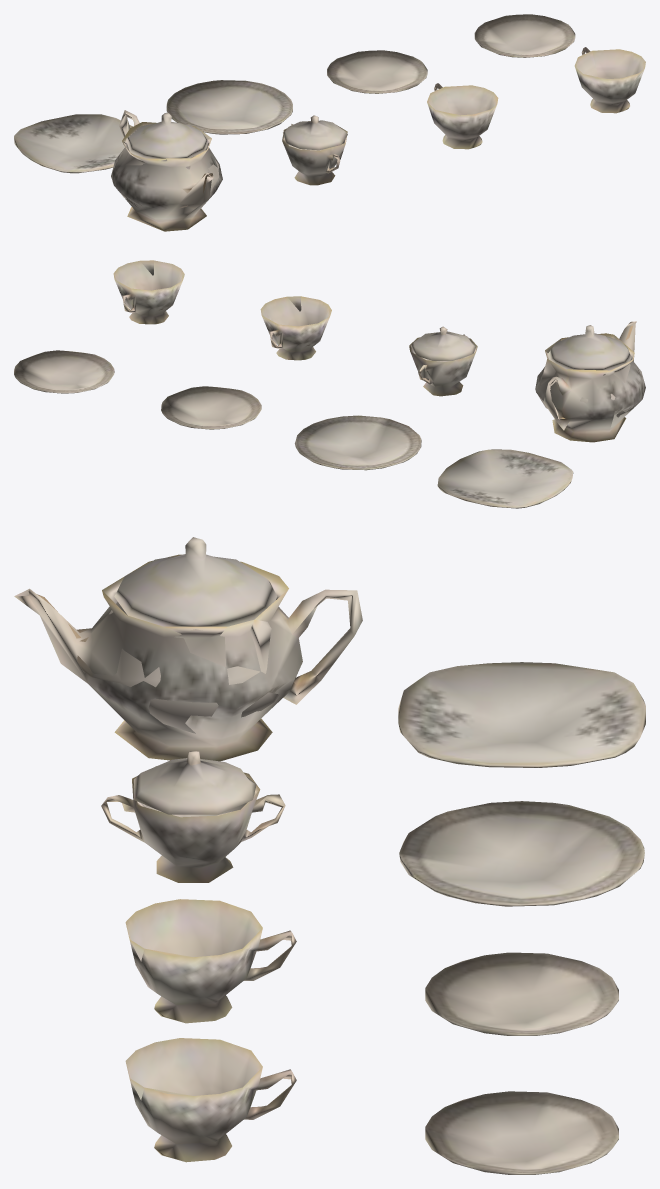
File: tea_set_01.glb
3 views of the same model, one above another, from view 1: azimuth 30°, elevation 25°; view 2: azimuth 150°, elevation 25°; view 3: azimuth 270°, elevation 25° (orthographic). The views are drawn at different scales.
Parts seen in each view (by area): view 1: tea_set_01_teapot_01, tea_set_01_plate_large_circular_03, tea_set_01_plate_large_square_01, tea_set_01_saucer_circular_03, tea_set_01_saucer_circular_04, tea_set_01_cup_small_01, tea_set_01_cup_small_02, tea_set_01_teapot_01_lid, tea_set_01_sugar_cup_01, tea_set_01_sugar_cup_01_lid; view 2: tea_set_01_teapot_01, tea_set_01_plate_large_square_01, tea_set_01_plate_large_circular_03, tea_set_01_saucer_circular_04, tea_set_01_saucer_circular_03, tea_set_01_cup_small_02, tea_set_01_cup_small_01, tea_set_01_teapot_01_lid, tea_set_01_sugar_cup_01, tea_set_01_sugar_cup_01_lid; view 3: tea_set_01_teapot_01, tea_set_01_plate_large_square_01, tea_set_01_plate_large_circular_03, tea_set_01_cup_small_02, tea_set_01_cup_small_01, tea_set_01_saucer_circular_03, tea_set_01_saucer_circular_04, tea_set_01_teapot_01_lid, tea_set_01_sugar_cup_01, tea_set_01_sugar_cup_01_lid.
Boxes of the visible parts, bbox=[...] form: tea_set_01_teapot_01: bbox=[111, 110, 222, 231]; tea_set_01_plate_large_circular_03: bbox=[166, 80, 292, 134]; tea_set_01_plate_large_square_01: bbox=[14, 114, 132, 173]; tea_set_01_saucer_circular_03: bbox=[474, 14, 575, 57]; tea_set_01_saucer_circular_04: bbox=[327, 50, 427, 93]; tea_set_01_cup_small_01: bbox=[427, 83, 498, 149]; tea_set_01_cup_small_02: bbox=[574, 47, 645, 113]; tea_set_01_teapot_01_lid: bbox=[126, 112, 208, 161]; tea_set_01_sugar_cup_01: bbox=[282, 124, 347, 185]; tea_set_01_sugar_cup_01_lid: bbox=[283, 115, 347, 150]; tea_set_01_teapot_01: bbox=[535, 321, 645, 442]; tea_set_01_plate_large_square_01: bbox=[437, 449, 573, 508]; tea_set_01_plate_large_circular_03: bbox=[294, 415, 421, 470]; tea_set_01_saucer_circular_04: bbox=[161, 386, 261, 429]; tea_set_01_saucer_circular_03: bbox=[14, 350, 114, 393]; tea_set_01_cup_small_02: bbox=[113, 260, 184, 324]; tea_set_01_cup_small_01: bbox=[260, 296, 331, 360]; tea_set_01_teapot_01_lid: bbox=[548, 325, 631, 370]; tea_set_01_sugar_cup_01: bbox=[409, 334, 477, 396]; tea_set_01_sugar_cup_01_lid: bbox=[410, 326, 476, 360]; tea_set_01_teapot_01: bbox=[14, 554, 362, 761]; tea_set_01_plate_large_square_01: bbox=[398, 662, 645, 767]; tea_set_01_plate_large_circular_03: bbox=[399, 801, 644, 906]; tea_set_01_cup_small_02: bbox=[125, 1038, 296, 1162]; tea_set_01_cup_small_01: bbox=[125, 899, 296, 1023]; tea_set_01_saucer_circular_03: bbox=[425, 1091, 618, 1174]; tea_set_01_saucer_circular_04: bbox=[425, 952, 618, 1035]; tea_set_01_teapot_01_lid: bbox=[114, 537, 277, 630]; tea_set_01_sugar_cup_01: bbox=[101, 766, 285, 882]; tea_set_01_sugar_cup_01_lid: bbox=[134, 751, 256, 814].
Bounding box in the file's own units: 0.918 × 0.1633 × 0.4809.
Materials: 1 (1 with a texture image).
